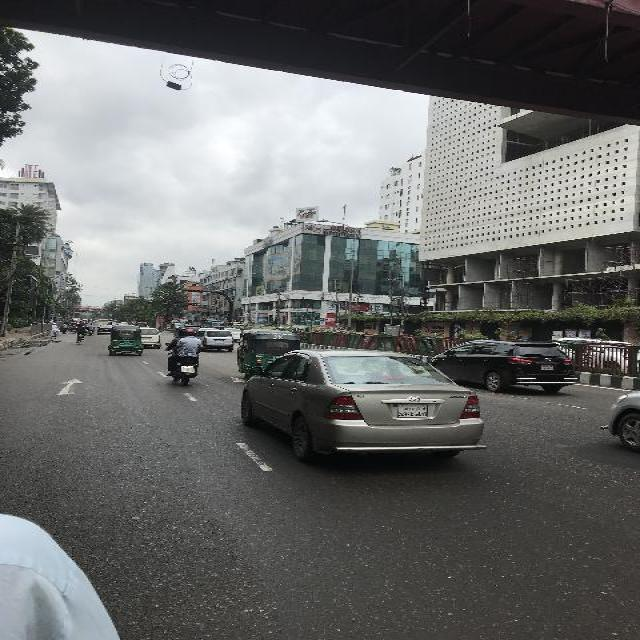bicycle: (72, 331, 84, 345)
bus: (203, 318, 224, 328)
car: (238, 376, 487, 464), (194, 329, 235, 353), (140, 327, 160, 348), (95, 324, 110, 334)
motorbike: (168, 354, 204, 388), (86, 328, 95, 336)
pickup: (96, 318, 108, 324)
rickshaw: (68, 321, 79, 334)
suv: (427, 340, 578, 392), (172, 323, 180, 329)
three wheelers -CNG-: (236, 330, 280, 372), (106, 324, 142, 356)
